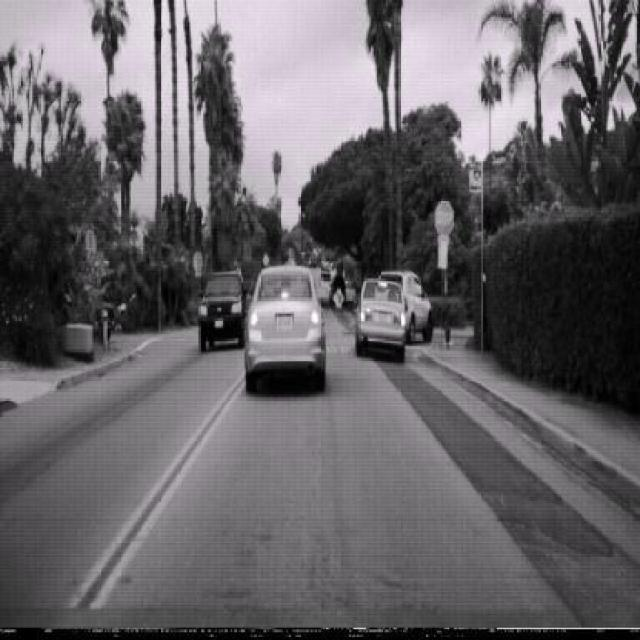stop: (434, 198, 454, 238)
